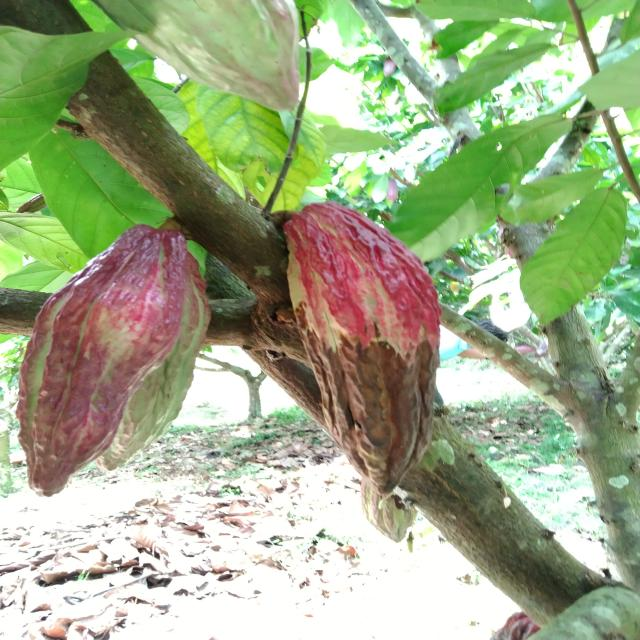Fitoftora: (275, 201, 444, 494)
Sana: (19, 223, 188, 499), (97, 247, 212, 468)
